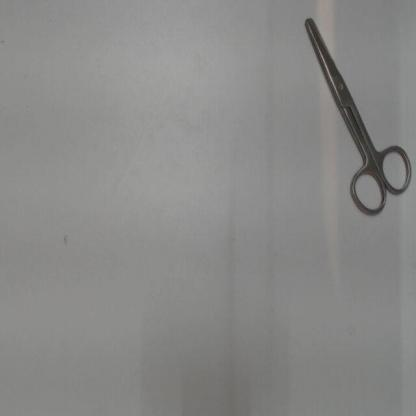Dressing Scissors: (294, 5, 414, 224)
